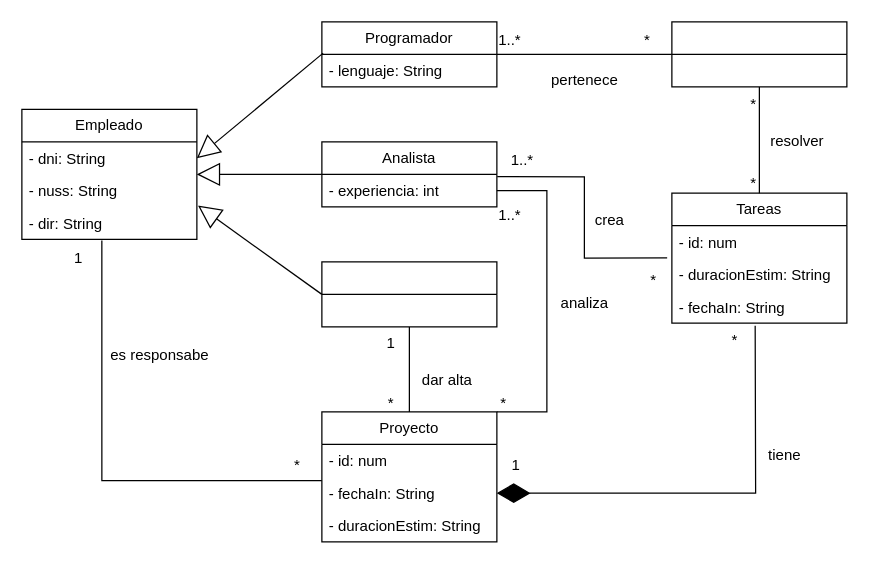
Image size: 869x568. Some labels were removed from this diagram. Each missing label, with the centre of its shape:
"Director" belongs at point 409,294.
"Grupo" belongs at point 759,54.
